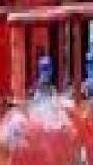cylinder: (1, 1, 93, 165)
